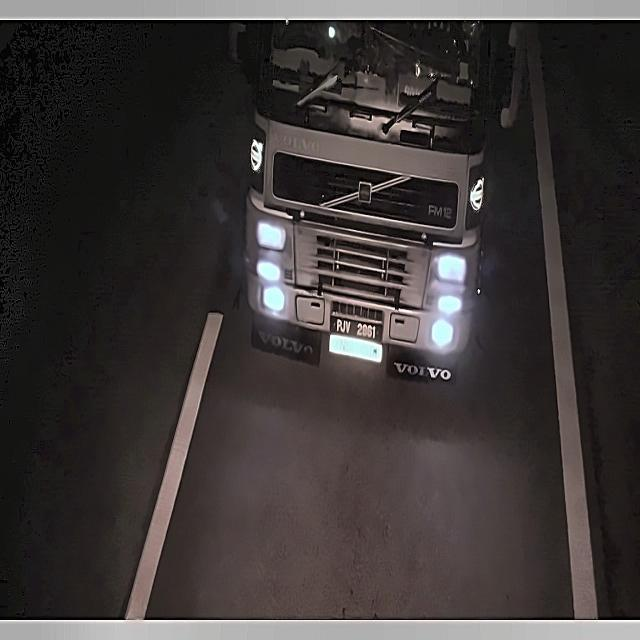car: (322, 305, 390, 351)
